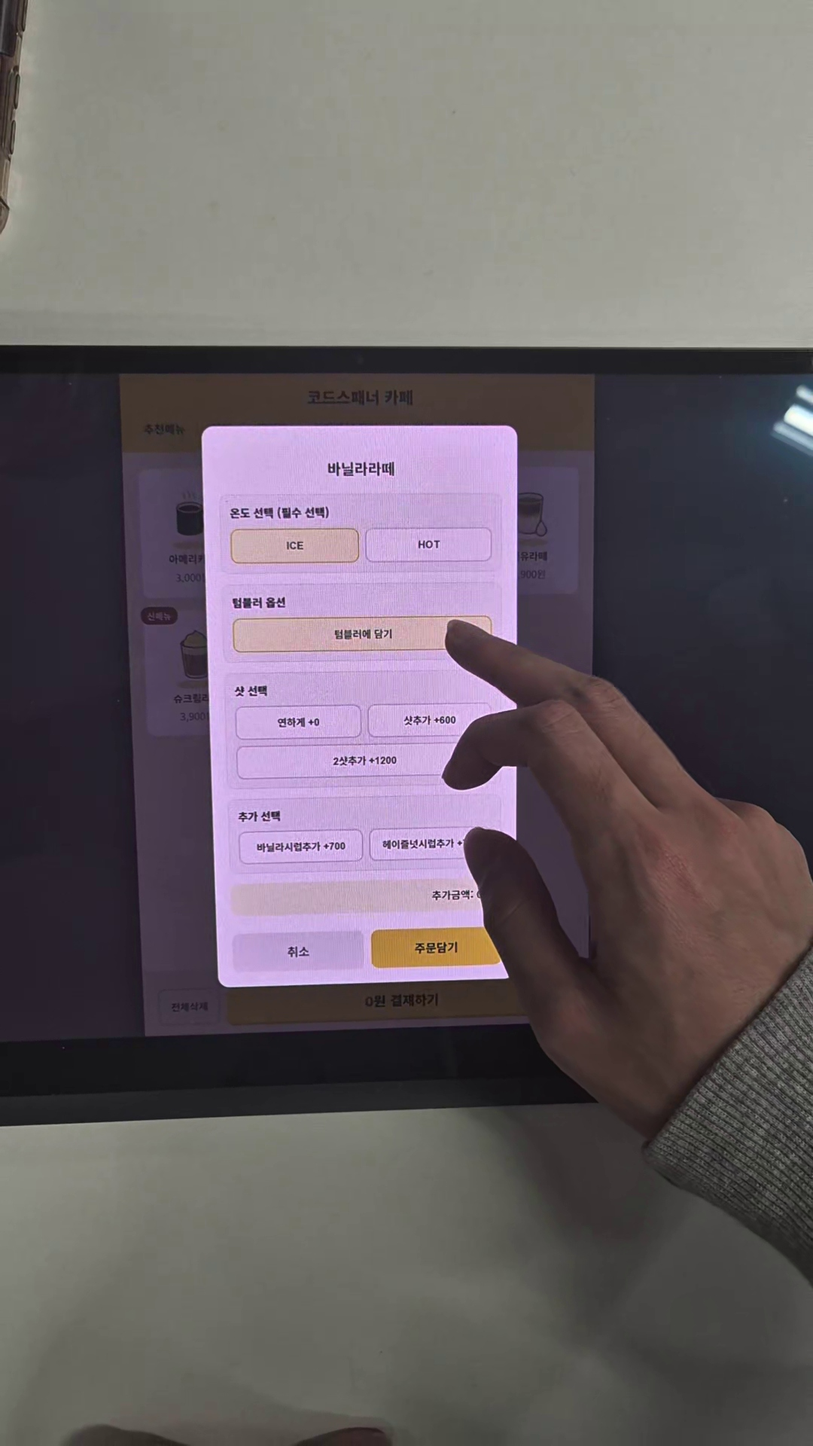action_button: (373, 929, 501, 967), (234, 933, 361, 971)
option_button: (233, 616, 493, 654), (236, 740, 496, 778), (368, 825, 496, 863), (235, 827, 362, 865), (366, 703, 493, 741), (366, 526, 493, 564), (229, 529, 357, 566), (236, 705, 363, 742)
popup_modal: (202, 423, 519, 987)
